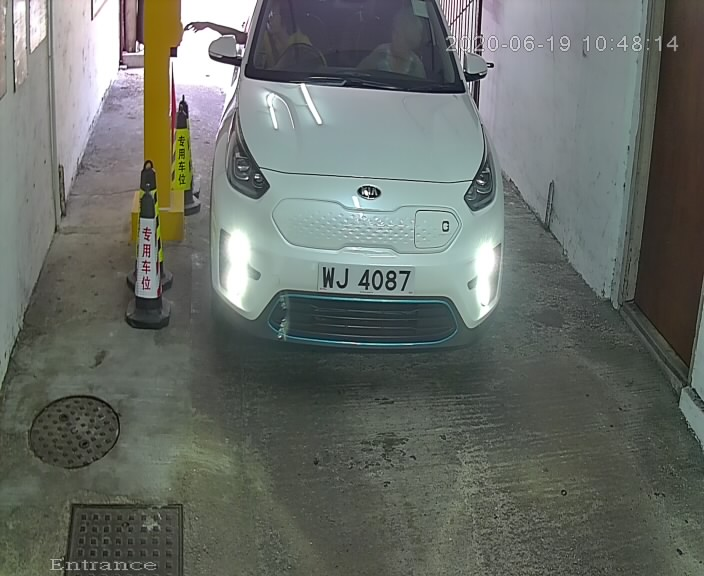privatecar: (187, 3, 521, 361)
